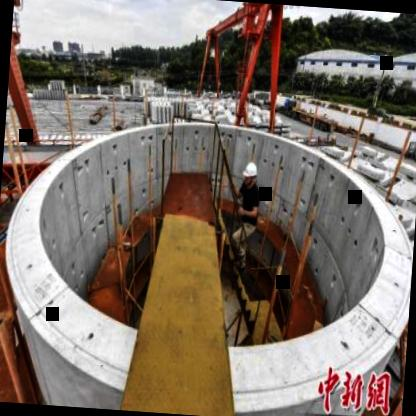helmet: (240, 158, 260, 190)
